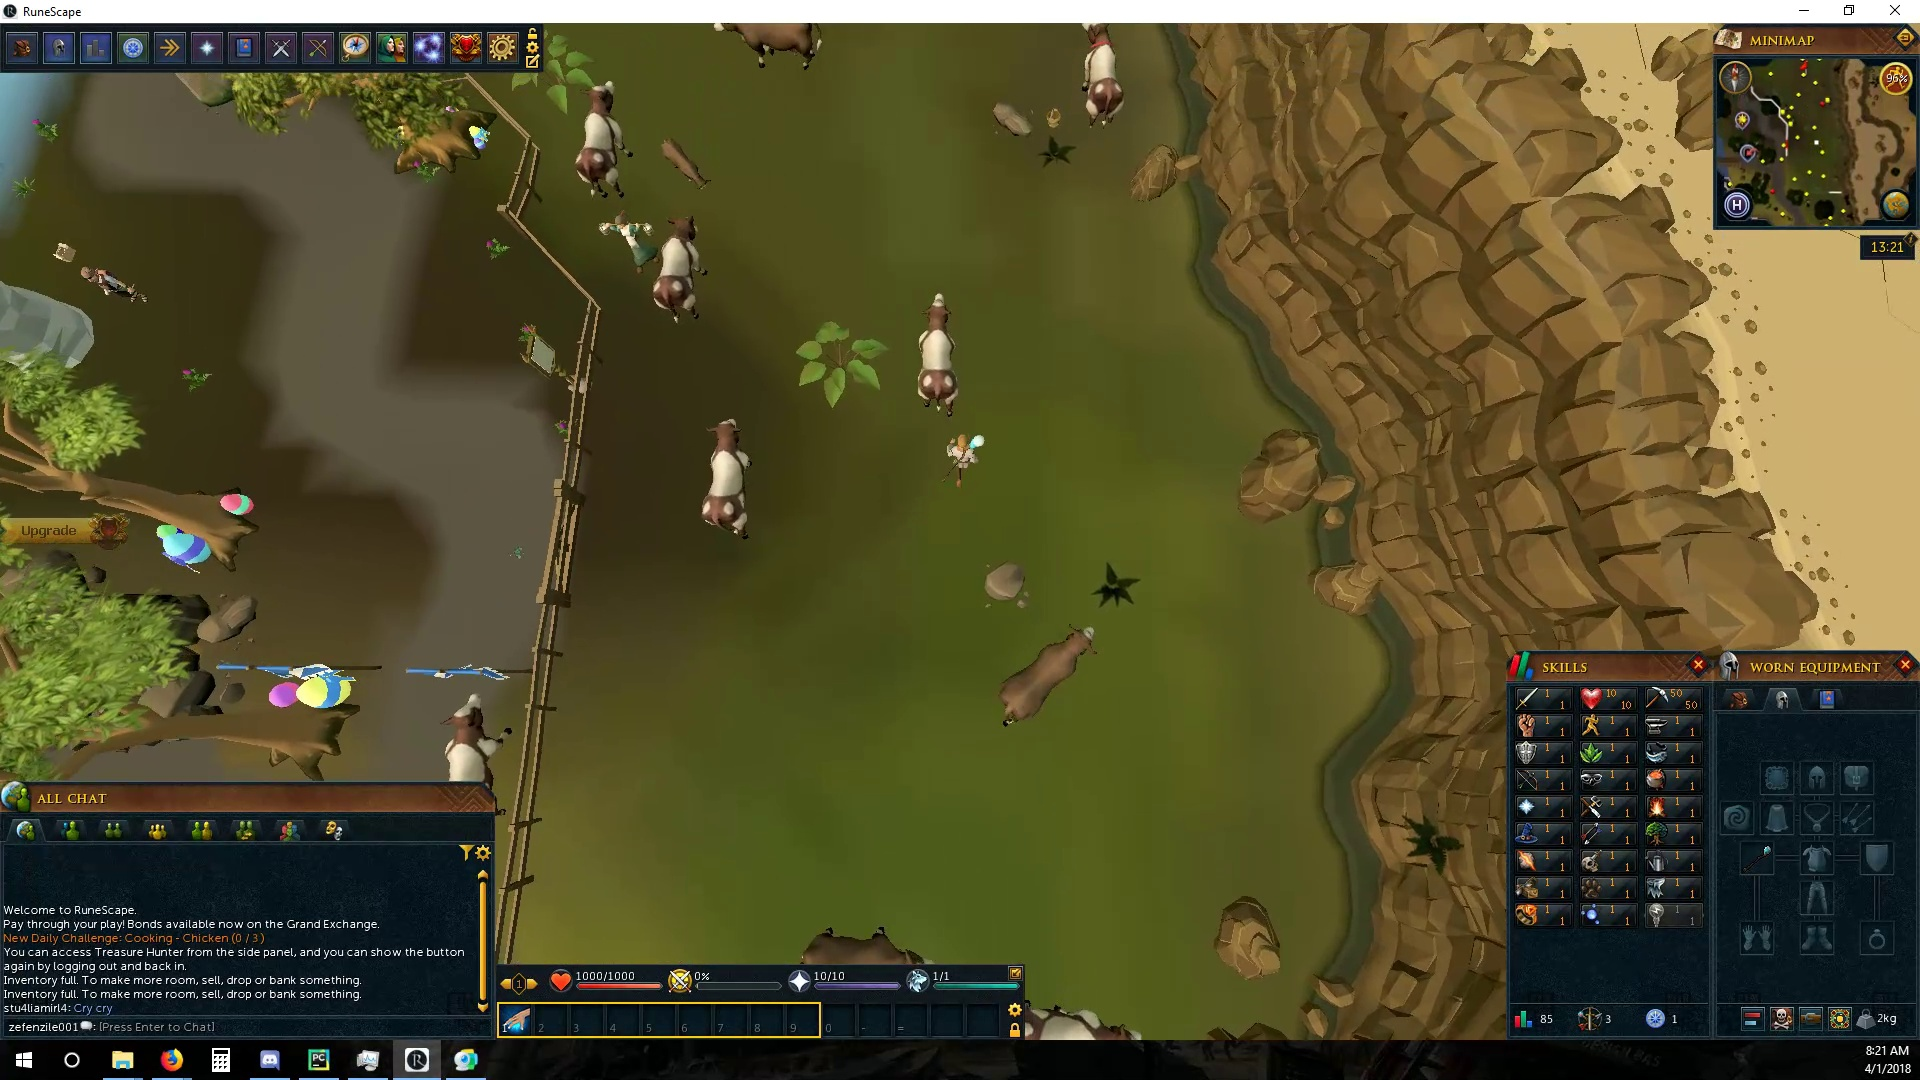calf: (653, 135, 709, 186)
cow: (989, 622, 1100, 733), (568, 76, 633, 202), (436, 690, 516, 781), (698, 415, 753, 542), (703, 22, 832, 74), (651, 214, 709, 327), (1073, 21, 1127, 133), (915, 291, 961, 421)
